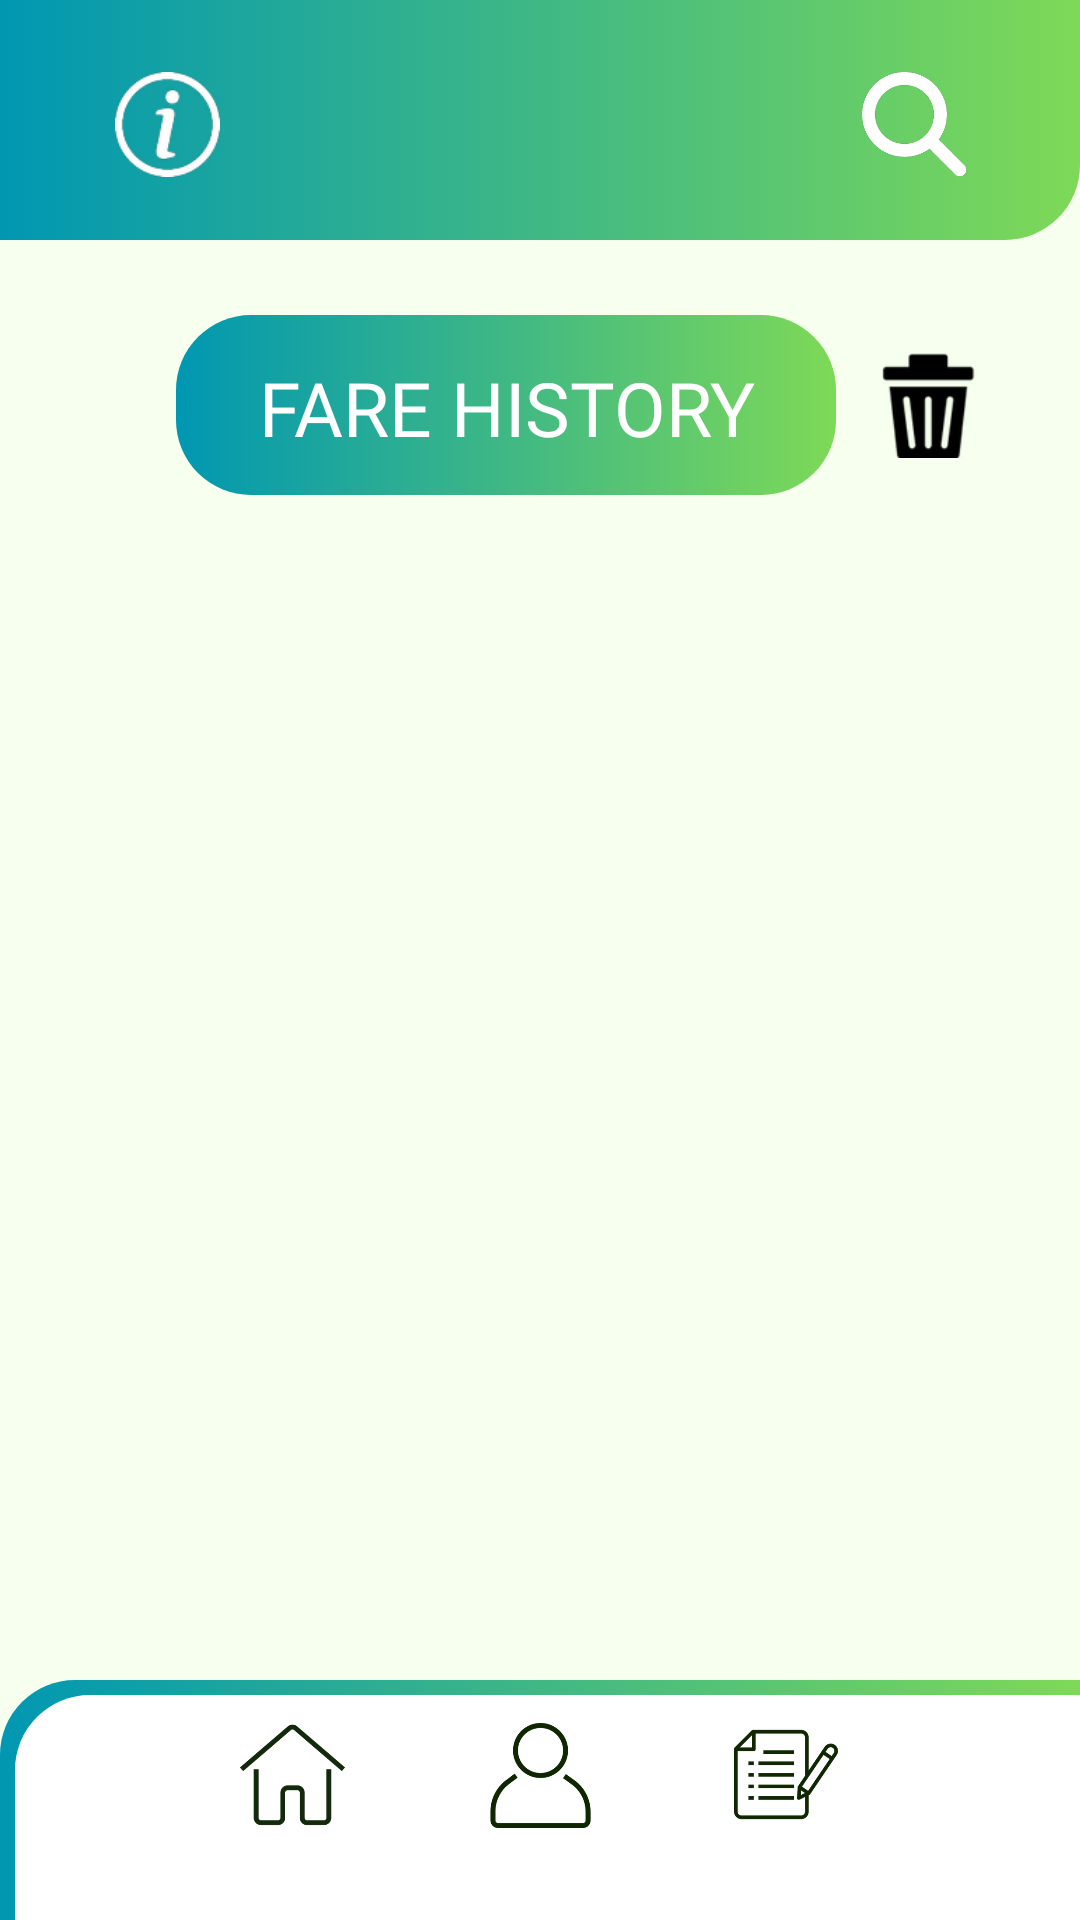

Icons on this 1080 x 1920 Android screen, each with its box as region(x1, y1, x2, y2):
about: region(115, 72, 220, 177)
account: region(490, 1723, 591, 1828)
delete: region(882, 353, 974, 458)
fare record: region(734, 1729, 838, 1820)
home: region(240, 1724, 345, 1825)
search: region(862, 72, 967, 177)
